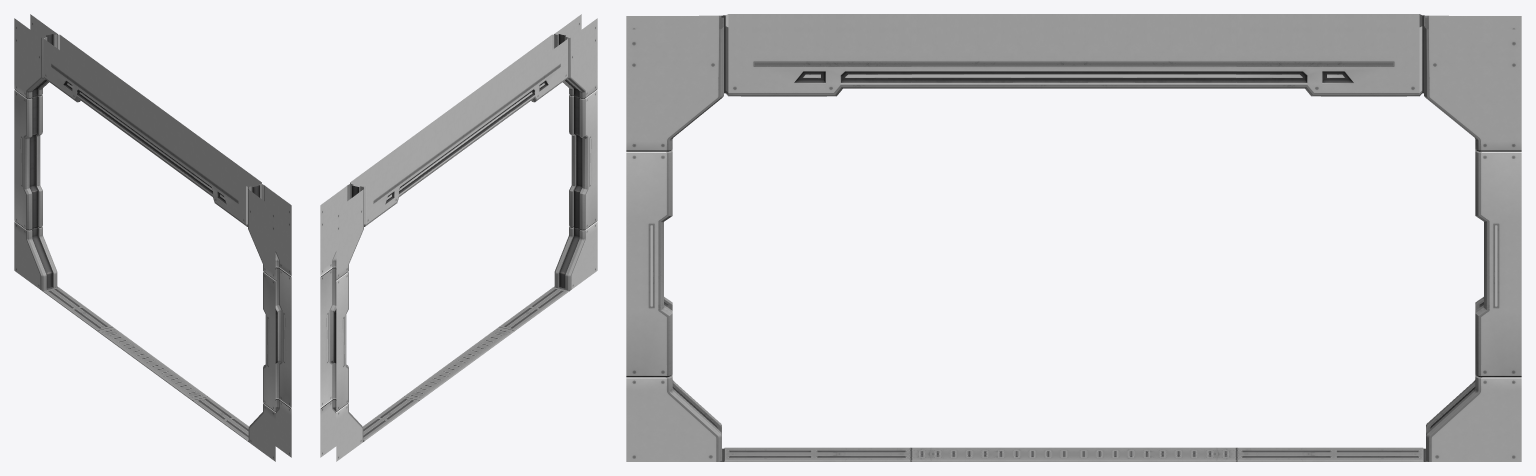
Rendered from SM_MPilaster01-700x350-2.FBX.
3 renders of one model, left to right at view 1: azimuth 30°, elevation 25°; view 2: azimuth 150°, elevation 25°; view 3: azimuth 270°, elevation 25°, orthographic. The views are drawn at different scales.
Parts seen in each view (by area): view 1: SM_MPilaster01-700x350-2; view 2: SM_MPilaster01-700x350-2; view 3: SM_MPilaster01-700x350-2.
Part boxes in pixels (x1,y1,x2,y2): SM_MPilaster01-700x350-2: (14,14,291,461); SM_MPilaster01-700x350-2: (320,14,597,461); SM_MPilaster01-700x350-2: (626,14,1521,461).
Size of what is drawn, in the model's own units: 25.01 by 702 by 376.
